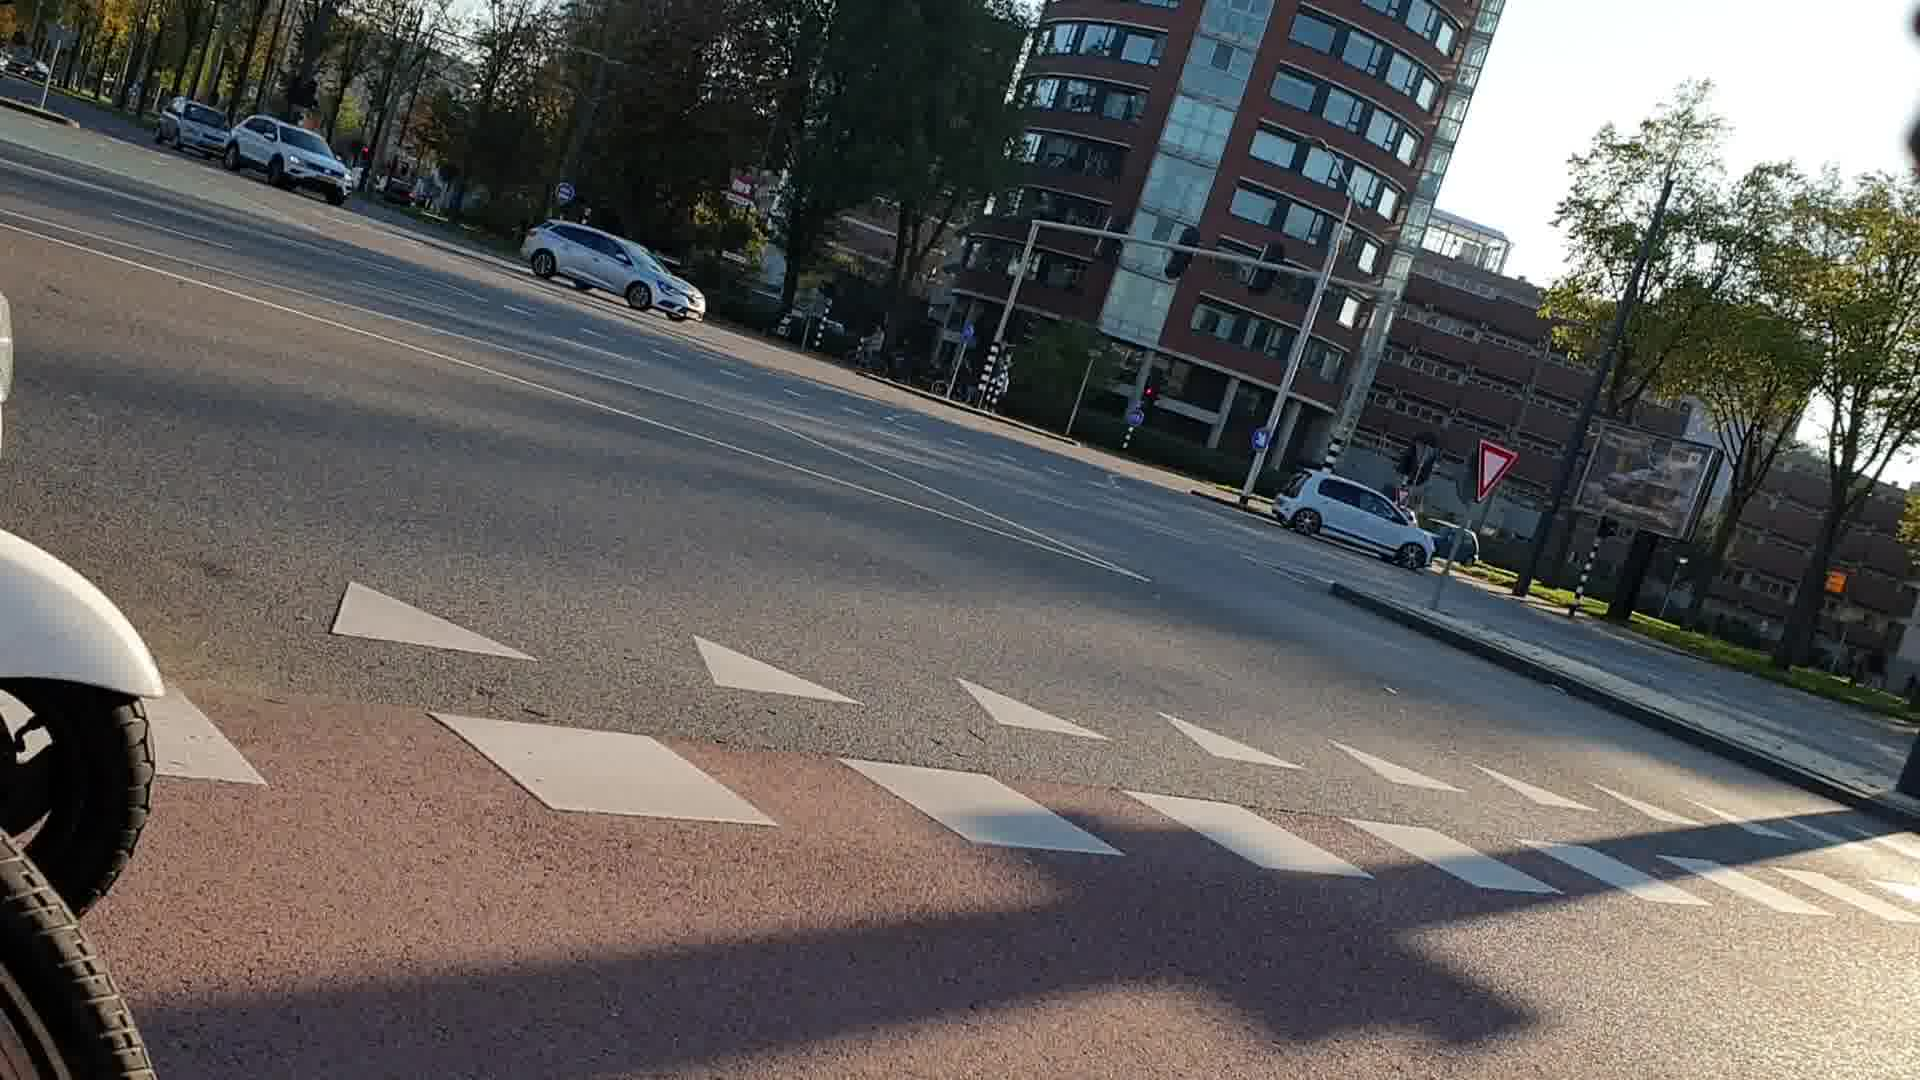car: (512, 222, 702, 316), (1269, 468, 1433, 566), (225, 116, 353, 208)
